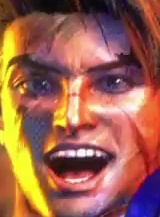kevin: (12, 10, 159, 216)
